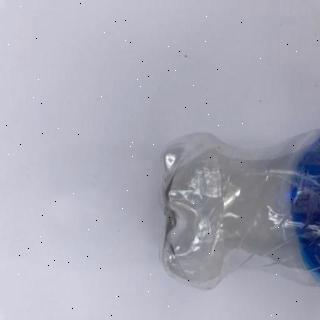Plastic-bottle: (161, 127, 320, 291)
